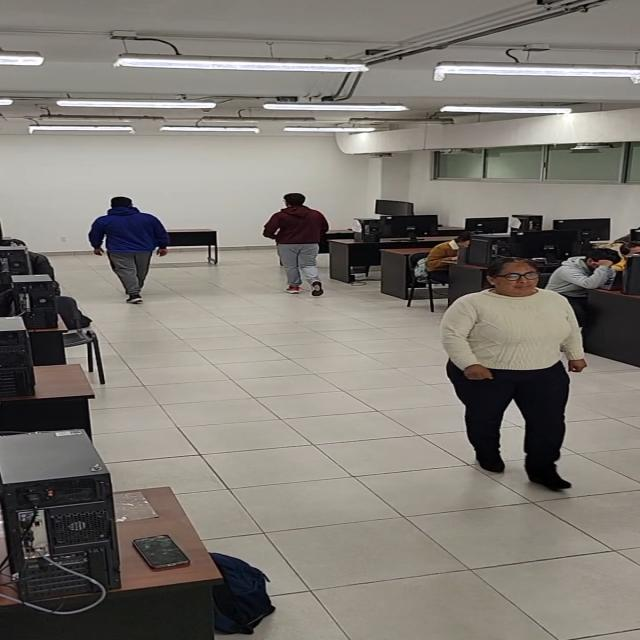Persona: (438, 257, 589, 492), (88, 196, 170, 304), (263, 192, 330, 297)
